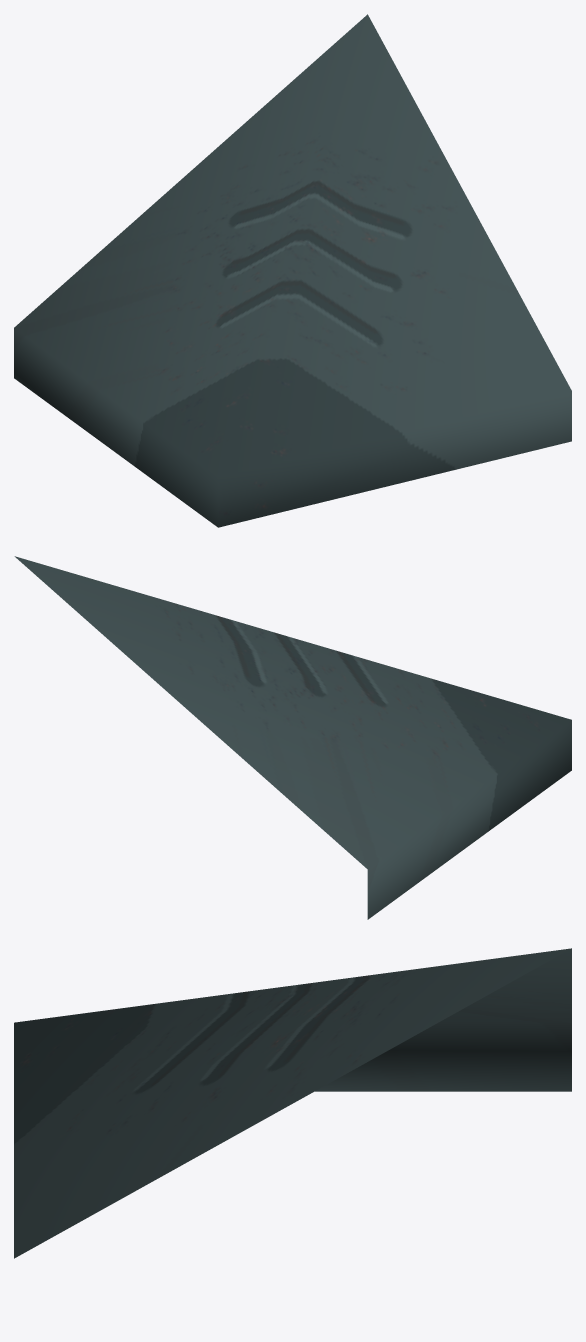
File: MK_Ship_WallCorner_Outside.fbx
The picture shows the model from 3 angles, top to bottom: view 1: azimuth 30°, elevation 25°; view 2: azimuth 150°, elevation 25°; view 3: azimuth 270°, elevation 25°; orthographic projection. The views are drawn at different scales.
Visible parts, largest first — view 1: MK_Ship_WallCorner_Outside; view 2: MK_Ship_WallCorner_Outside; view 3: MK_Ship_WallCorner_Outside.
Part boxes in pixels (<box>): MK_Ship_WallCorner_Outside: <box>14,14,571,527</box>; MK_Ship_WallCorner_Outside: <box>14,556,571,919</box>; MK_Ship_WallCorner_Outside: <box>14,948,571,1258</box>.
Size of the model in its own units: 0.25 by 0.1875 by 0.25.
Materials: 1 (1 with a texture image).
